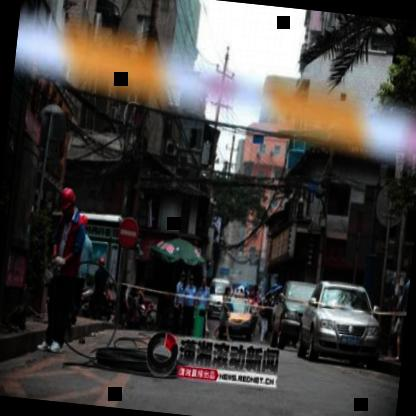helmet: (54, 184, 80, 226)
